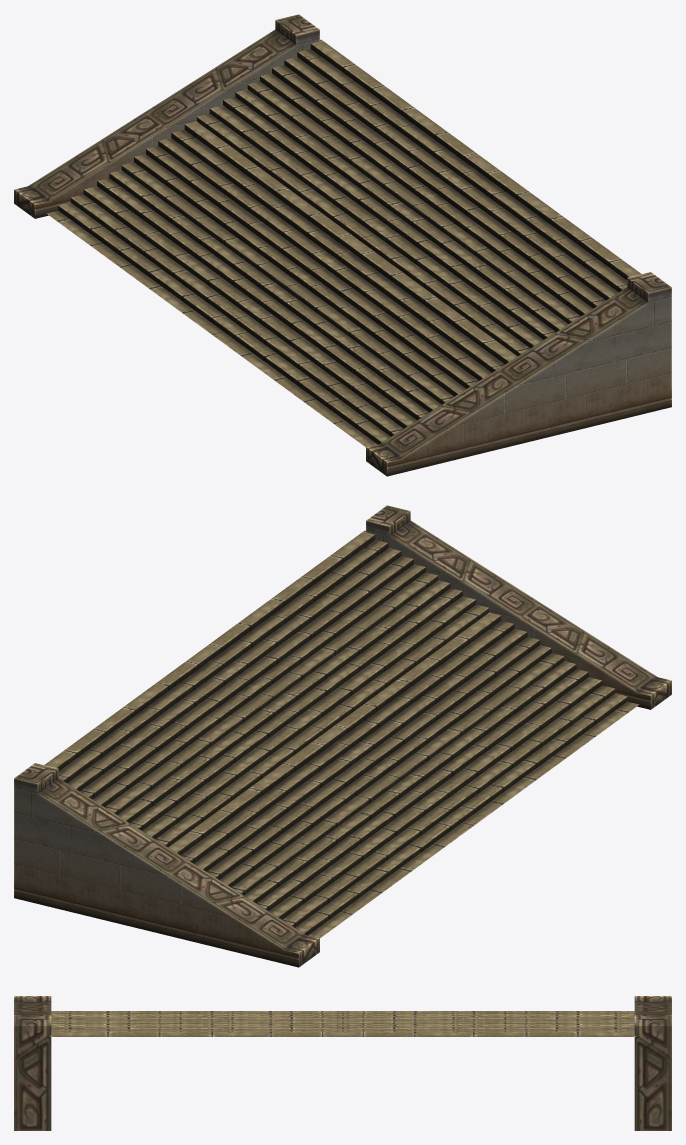
Rendered from SN_bfzt01_qiangbi_jieti.FBX.
3 renders of one model, top to bottom at view 1: azimuth 30°, elevation 25°; view 2: azimuth 150°, elevation 25°; view 3: azimuth 270°, elevation 25°, orthographic. The views are drawn at different scales.
Visible parts, largest first — view 1: SN_bfzt01_qiangbi_jieti; view 2: SN_bfzt01_qiangbi_jieti; view 3: SN_bfzt01_qiangbi_jieti.
Part boxes in pixels (x1,y1,x2,y2): SN_bfzt01_qiangbi_jieti: (14,14,671,476); SN_bfzt01_qiangbi_jieti: (14,505,671,967); SN_bfzt01_qiangbi_jieti: (14,996,671,1130).
Bounding box in the file's own units: 1154 × 2592 × 459.
